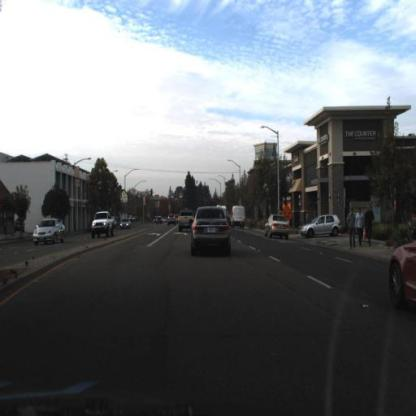car: (190, 204, 232, 261), (390, 238, 416, 315), (300, 212, 344, 240), (299, 214, 342, 238), (33, 219, 67, 247), (90, 209, 117, 241), (265, 214, 291, 243), (91, 211, 116, 240), (232, 203, 249, 231), (178, 208, 196, 234), (118, 216, 134, 232), (169, 214, 177, 226)
pedestrian: (365, 205, 375, 248), (356, 208, 366, 248), (349, 207, 358, 249)
truck: (231, 206, 246, 230)
